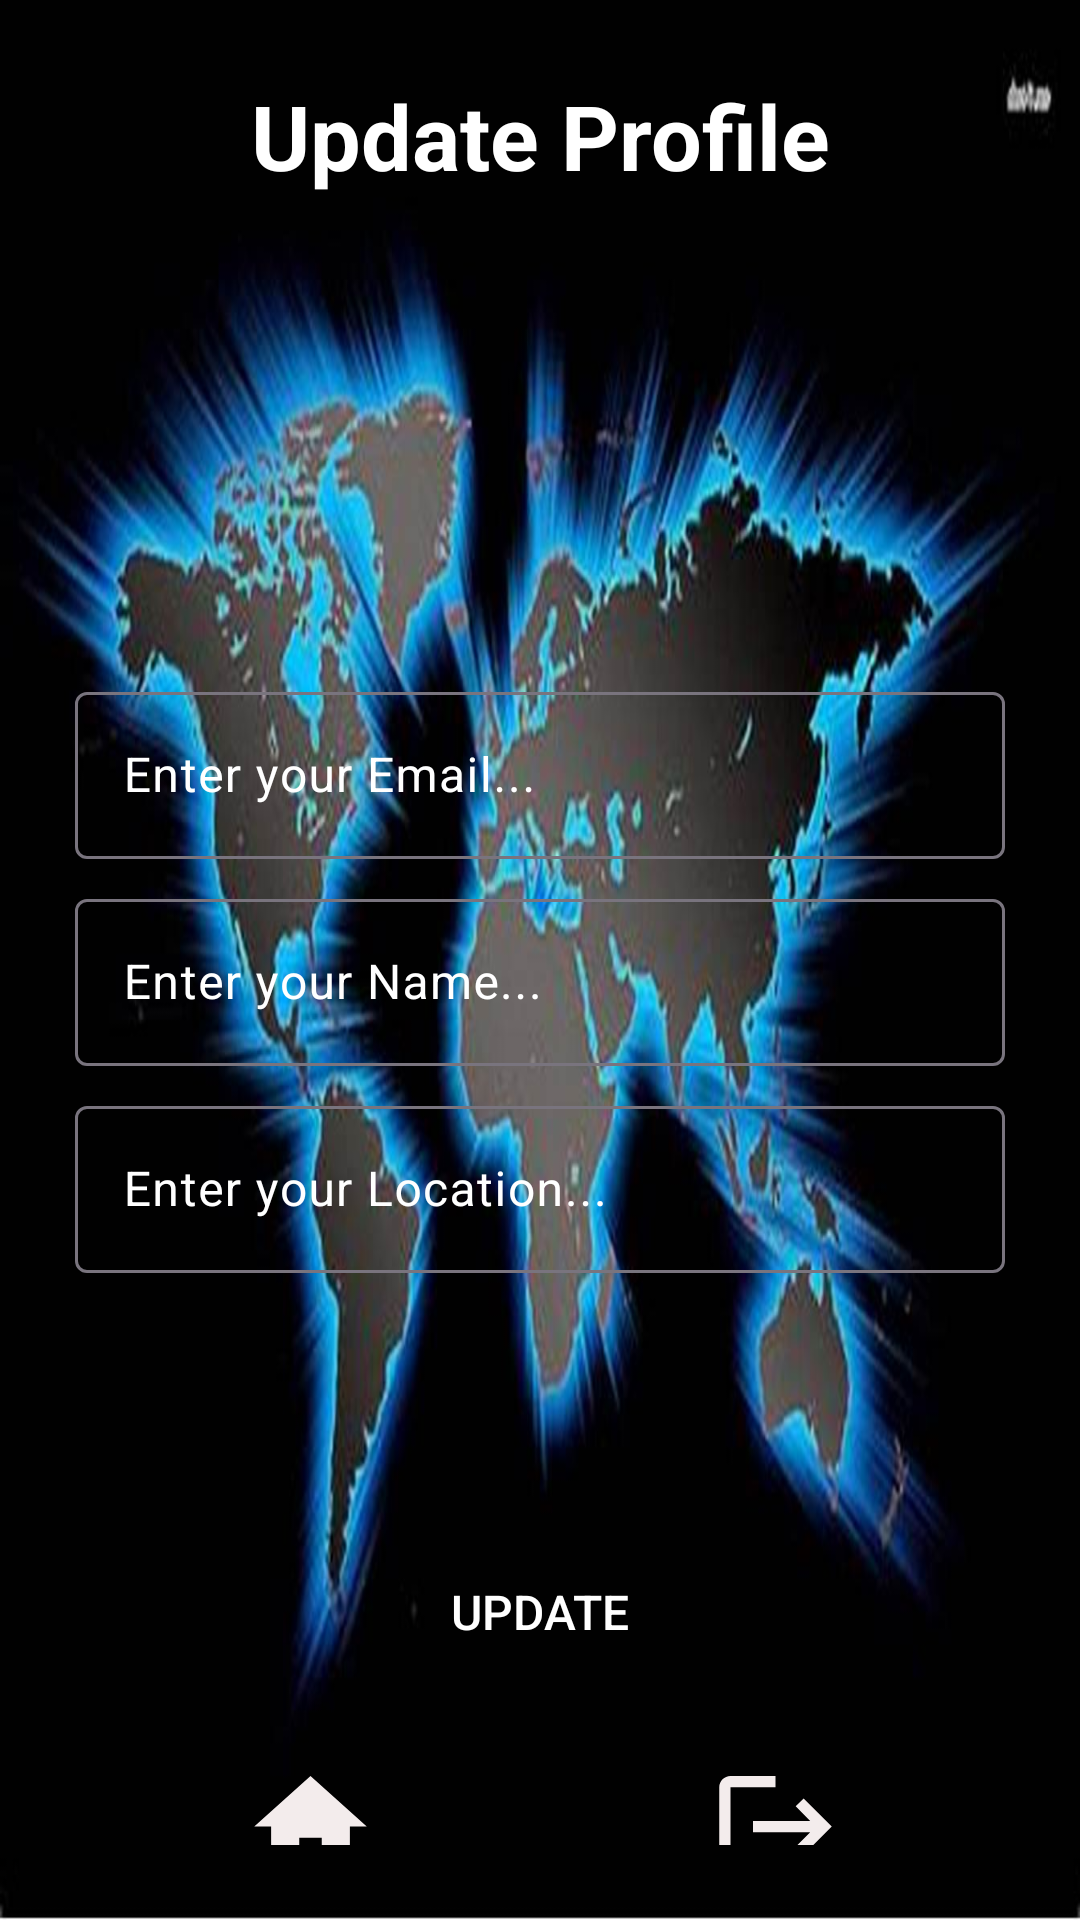

Screen size 1080w x 1920h. Icon name, then its box in pixels as (x1, y1, x2, y2):
home: (254, 1776, 367, 1845)
